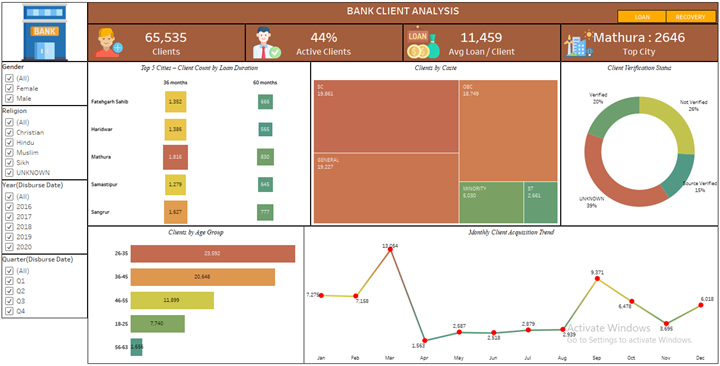

This screenshot's page, from the dashboard's own definition file:
{"tool":"tableau","page":{"name":"CLIENT_DASHBOARD","canvas":[1000,1000],"units":"permille","ordinal":0},"visuals":[{"type":"image","param":"Image/Bank.png","box":[7,14.5,118.1,159.1]},{"type":"text","box":[126,16.3,866.1,50.7]},{"type":"dashboard-object","box":[855.1,32.6,69.8,34.4]},{"type":"dashboard-object","box":[921.4,32.6,69.8,34.4]},{"type":"worksheet","title":"KPI-C-Clients","mark":"Automatic","box":[125.2,72.4,217,101.2]},{"type":"worksheet","title":"KPI-C-ActiveClients","mark":"Automatic","box":[342.1,72.4,217,101.2]},{"type":"worksheet","title":"KPI-C-AvgLoanPerClient","mark":"Automatic","box":[559.1,72.4,217,101.2]},{"type":"worksheet","title":"KPI-C-TopCityByClient","mark":"Text","box":[776,72.4,217,101.2]},{"type":"image","param":"Image/ActiveClient.png","box":[349.8,74.3,44.2,92.4]},{"type":"image","param":"Image/AvgLoan.png","box":[563.6,74.3,47.7,88.8]},{"type":"image","param":"Image/Client.png","box":[129.9,76.1,46.8,88.8]},{"type":"image","param":"Image/TopCity.png","box":[780,77.9,42.4,88.8]},{"type":"filter","title":"C-ClientsByLoanTop5Cities","param":"[federated.1ke82wi020wc2q1g72ym4128yqcx].[none:Gender:nk]","box":[7,173.6,118.1,150.4]},{"type":"worksheet","title":"C-ClientsByLoanTop5Cities","mark":"Automatic","rows":["City"],"cols":["Loan Term"],"box":[125.2,173.6,369.1,442.1]},{"type":"worksheet","title":"C-ClientsByCaste","mark":"Automatic","box":[494.2,173.6,281.6,442.1]},{"type":"worksheet","title":"C-ClientsVerification","mark":"Pie","rows":["Calculation_1271422527703814148","Calculation_1271422527703814148"],"box":[775.8,173.6,217.2,442.1]},{"type":"filter","title":"C-ClientsByMonths","param":"[federated.1ke82wi020wc2q1g72ym4128yqcx].[none:Religion:nk]","box":[7,323.9,118.1,221.2]},{"type":"filter","title":"C-ClientsByMonths","param":"[federated.1ke82wi020wc2q1g72ym4128yqcx].[yr:Disbursement Date:ok]","box":[7,545.1,118.1,221.2]},{"type":"worksheet","title":"C-ClientsByAgeGrp","mark":"Automatic","rows":["Age Group"],"cols":["Client id"],"box":[125.2,615.6,297.8,369.9]},{"type":"worksheet","title":"C-ClientsByMonths","mark":"Line","rows":["Client id","Client id"],"cols":["Calculation_1271422527716278277"],"box":[422.9,615.6,570,369.9]},{"type":"filter","title":"C-ClientsByMonths","param":"[federated.1ke82wi020wc2q1g72ym4128yqcx].[qr:Disbursement Date:ok]","box":[7,766.3,118.1,219.2]}]}

Visuals, with their boxes on the dashboard's canvas, which has no fixed pixel size, in thousandths of its width and height (x1, y1, x2, y2). These are canvas units, not pixel positions in the 720x366 screenshot, which may show the page scaled, cropped or inside an application window:
image: bbox=(7, 14, 125, 174)
text: bbox=(126, 16, 992, 67)
dashboard-object: bbox=(855, 33, 925, 67)
dashboard-object: bbox=(921, 33, 991, 67)
"KPI-C-Clients" worksheet: bbox=(125, 72, 342, 174)
"KPI-C-ActiveClients" worksheet: bbox=(342, 72, 559, 174)
"KPI-C-AvgLoanPerClient" worksheet: bbox=(559, 72, 776, 174)
"KPI-C-TopCityByClient" worksheet (Text marks): bbox=(776, 72, 993, 174)
image: bbox=(350, 74, 394, 167)
image: bbox=(564, 74, 611, 163)
image: bbox=(130, 76, 177, 165)
image: bbox=(780, 78, 822, 167)
"C-ClientsByLoanTop5Cities" filter: bbox=(7, 174, 125, 324)
"C-ClientsByLoanTop5Cities" worksheet: bbox=(125, 174, 494, 616)
"C-ClientsByCaste" worksheet: bbox=(494, 174, 776, 616)
"C-ClientsVerification" worksheet (Pie marks): bbox=(776, 174, 993, 616)
"C-ClientsByMonths" filter: bbox=(7, 324, 125, 545)
"C-ClientsByMonths" filter: bbox=(7, 545, 125, 766)
"C-ClientsByAgeGrp" worksheet: bbox=(125, 616, 423, 986)
"C-ClientsByMonths" worksheet (Line marks): bbox=(423, 616, 993, 986)
"C-ClientsByMonths" filter: bbox=(7, 766, 125, 986)
